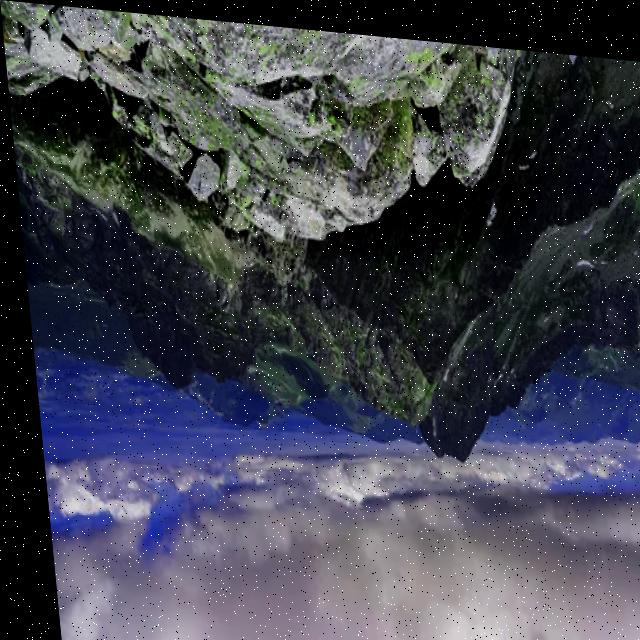Giewont: (224, 379, 301, 473)
Kasprowy Wierch: (254, 374, 316, 438)
Swinica: (386, 377, 519, 534)
